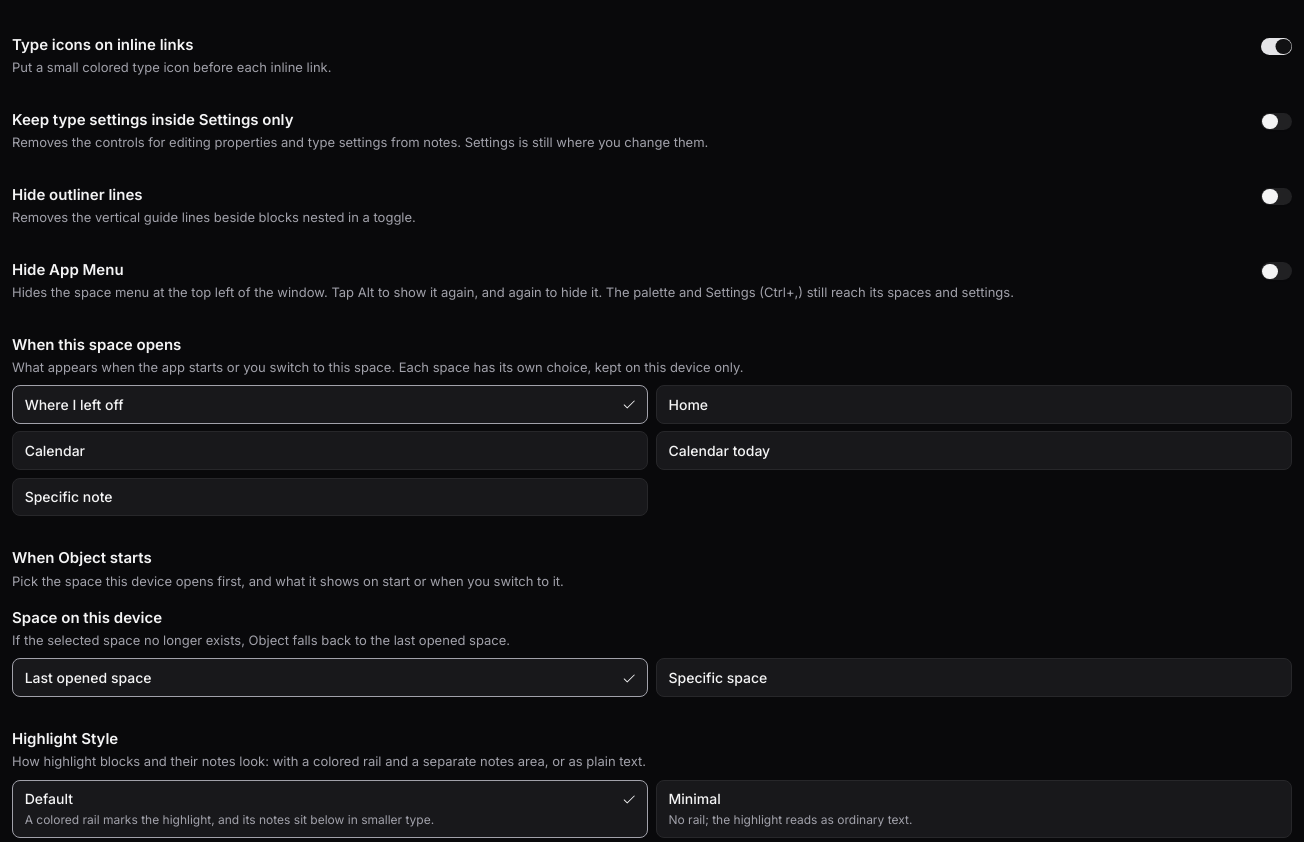
Test: EditorSection › test when this space opens is stored per space root, with a specific note
This screenshot has width=1304, height=842.
Later steps or results of the test are not shown.
(page scrolled)
Click the radio button labelled "Calendar today". click: (719, 451)
box: [656,431,1292,470]
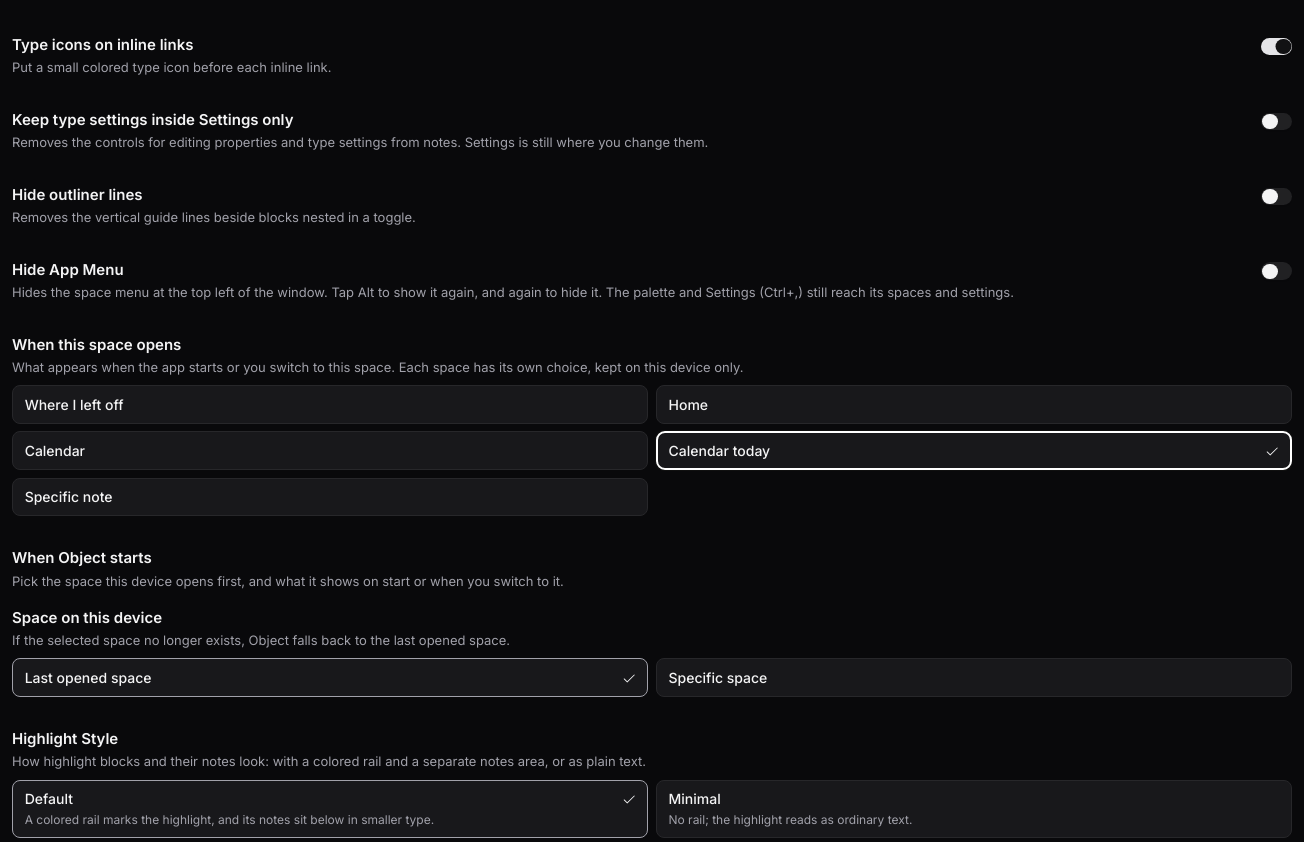
// M32: Home (the Home tab) is a choice of its own.
Click the radio button labelled "Home". click: (688, 404)
box: [656,385,1292,424]
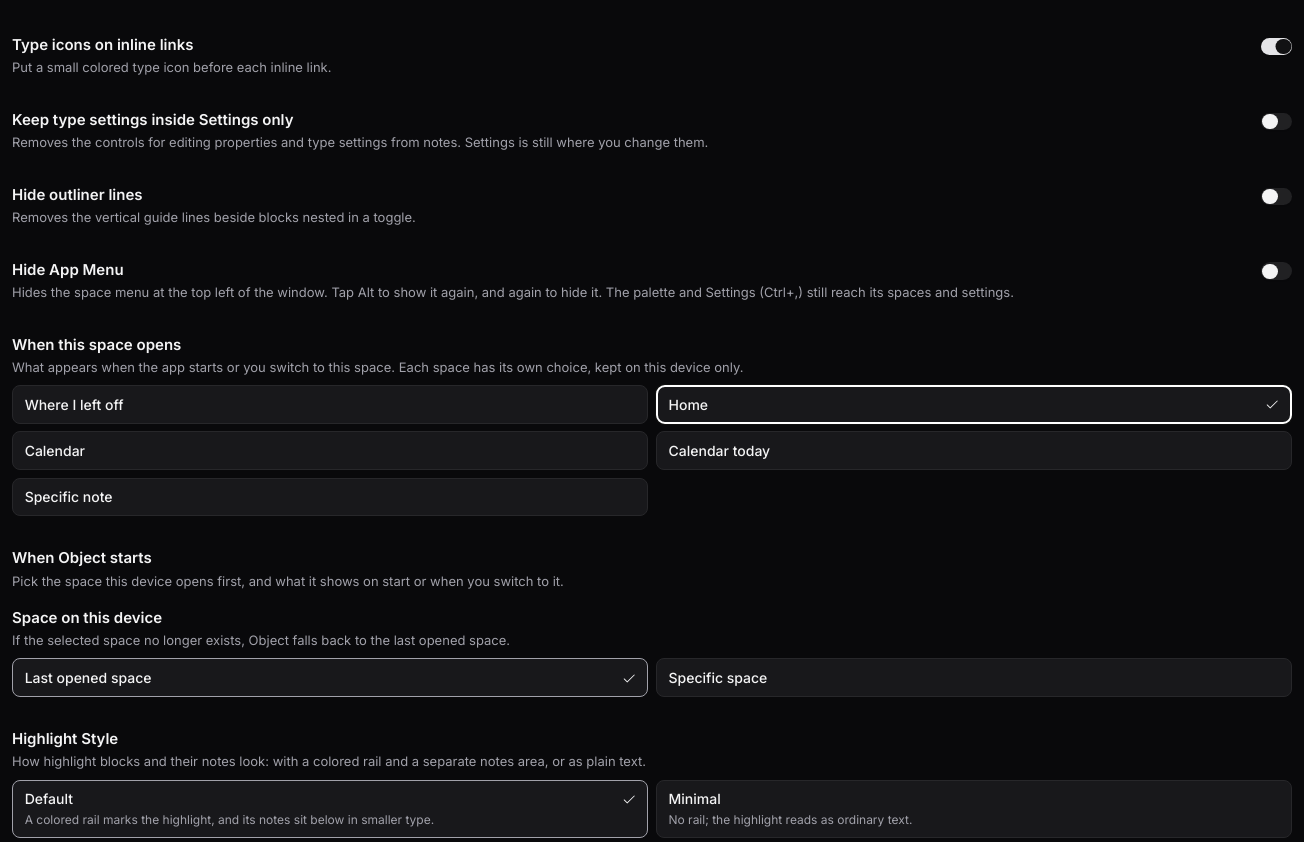
Now the radio button labelled "Home" is checked, box [656,385,1292,424]
Click the radio button labelled "Specific note". click: (69, 497)
box: [12,478,648,516]
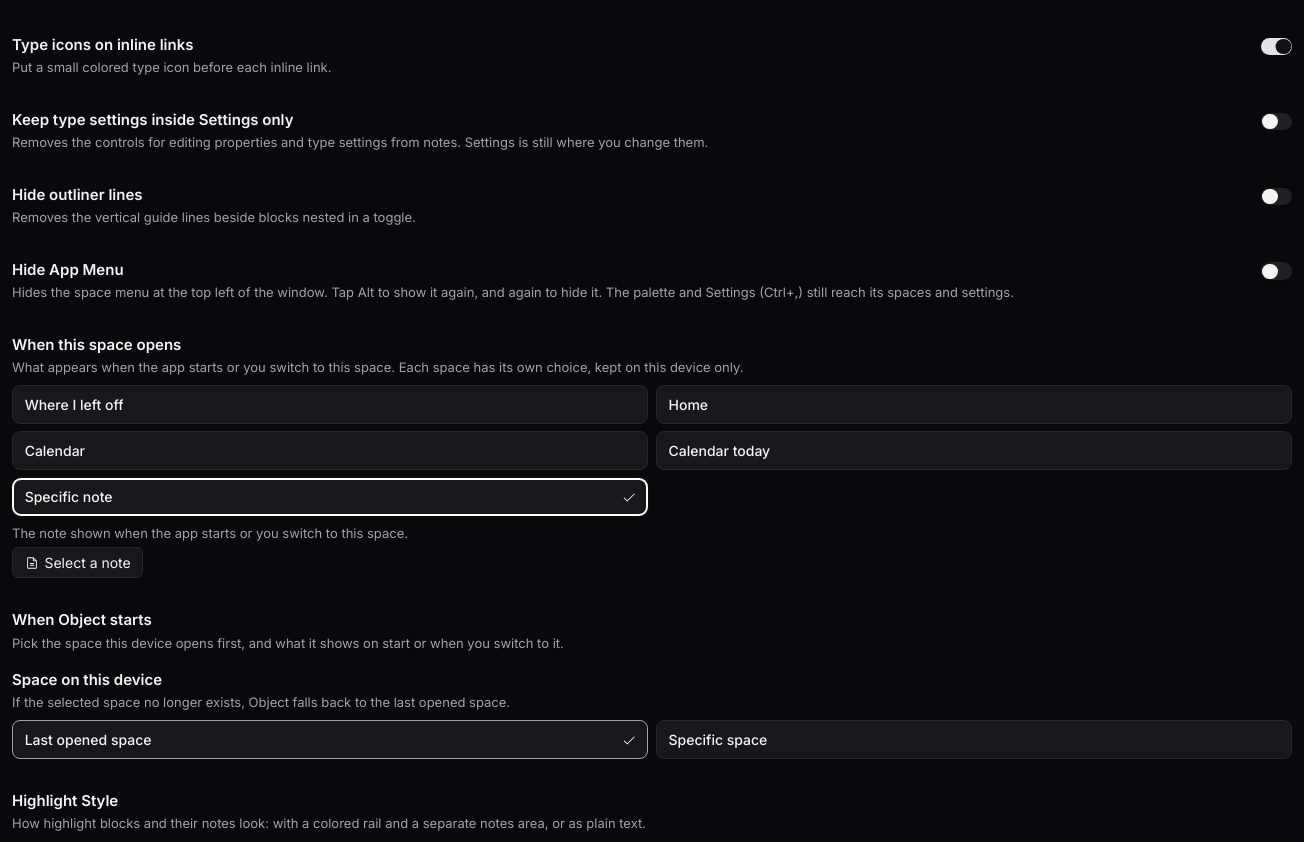
Now the text "The note shown when the app starts or you switch to this space." is shown, box [12,525,408,541]
